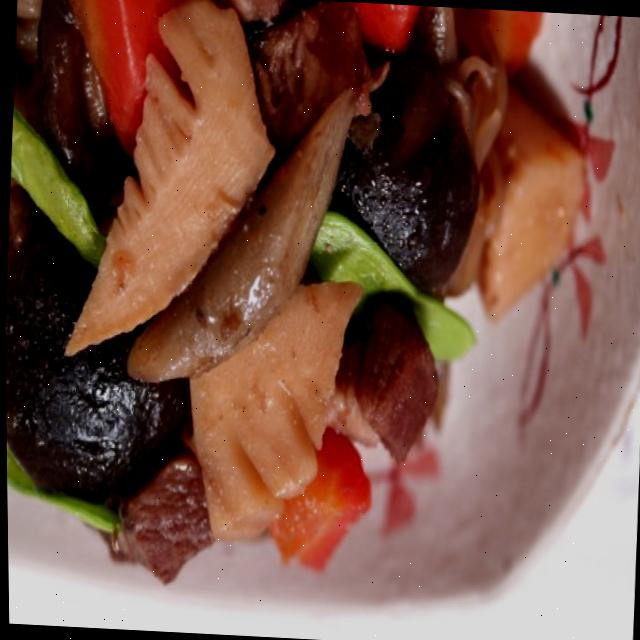鸡肉料理 含炸鸡: (0, 0, 621, 640)
